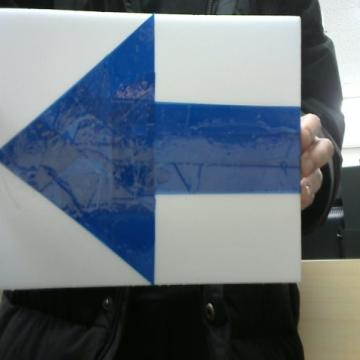blue_left: (0, 16, 299, 282)
